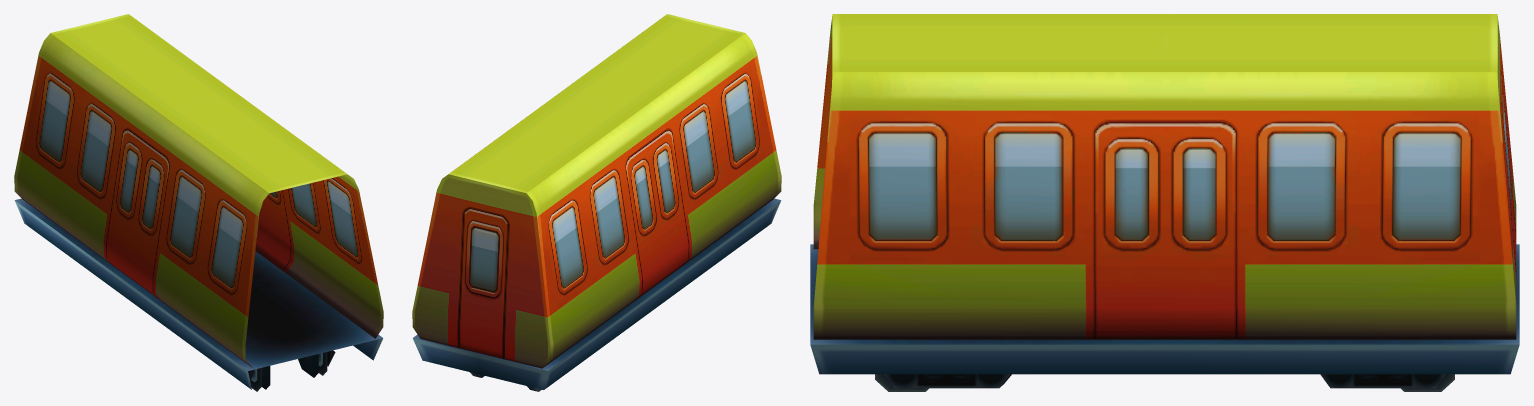
Rendered from original_train.glb.
The picture shows the model from 3 angles, left to right: view 1: azimuth 30°, elevation 25°; view 2: azimuth 150°, elevation 25°; view 3: azimuth 270°, elevation 25°; orthographic projection. The views are drawn at different scales.
Parts seen in each view (by area): view 1: Object_2; view 2: Object_2; view 3: Object_2.
Boxes of the visible parts, left/top/right/bottom form: Object_2: left=14, top=14, right=383, bottom=391; Object_2: left=412, top=14, right=781, bottom=391; Object_2: left=810, top=14, right=1519, bottom=391.
Bounding box in the file's own units: 18.82 × 27.84 × 55.13.
1 material, 1 textured.
